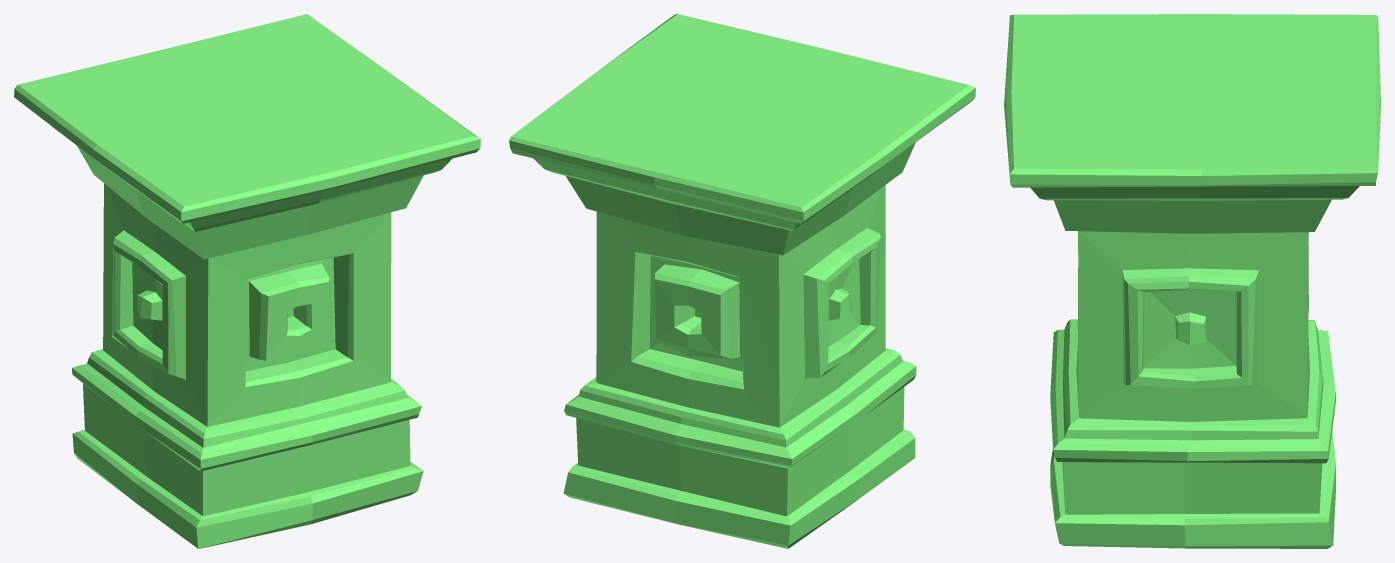
Rendered from socle_lowPoly.fbx.
3 views of the same model, side by side, from view 1: azimuth 30°, elevation 25°; view 2: azimuth 150°, elevation 25°; view 3: azimuth 270°, elevation 25° (orthographic). The views are drawn at different scales.
Parts seen in each view (by area): view 1: socle_lowPoly; view 2: socle_lowPoly; view 3: socle_lowPoly.
Part boxes in pixels (x1,y1,x2,y2): socle_lowPoly: (14, 14, 480, 548); socle_lowPoly: (509, 14, 975, 548); socle_lowPoly: (1004, 14, 1380, 548).
Bounding box in the file's own units: 100 × 117 × 100.
